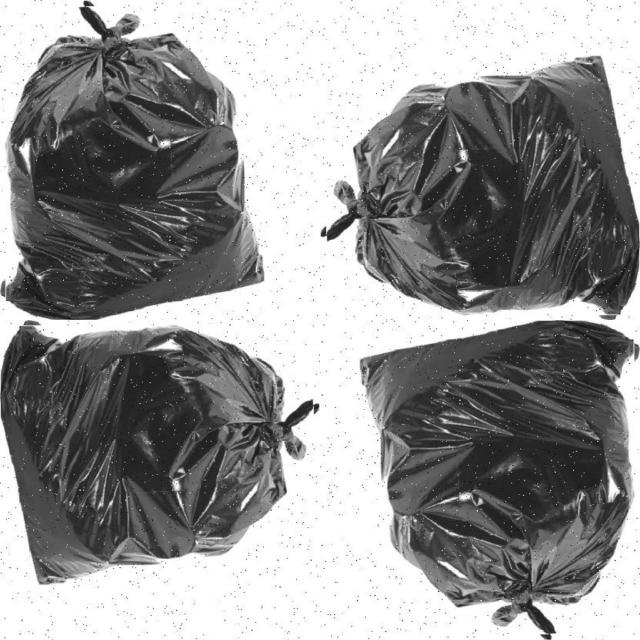Single-layer Plastic: (361, 321, 634, 636), (1, 325, 318, 582), (6, 4, 264, 319), (328, 56, 639, 314)
